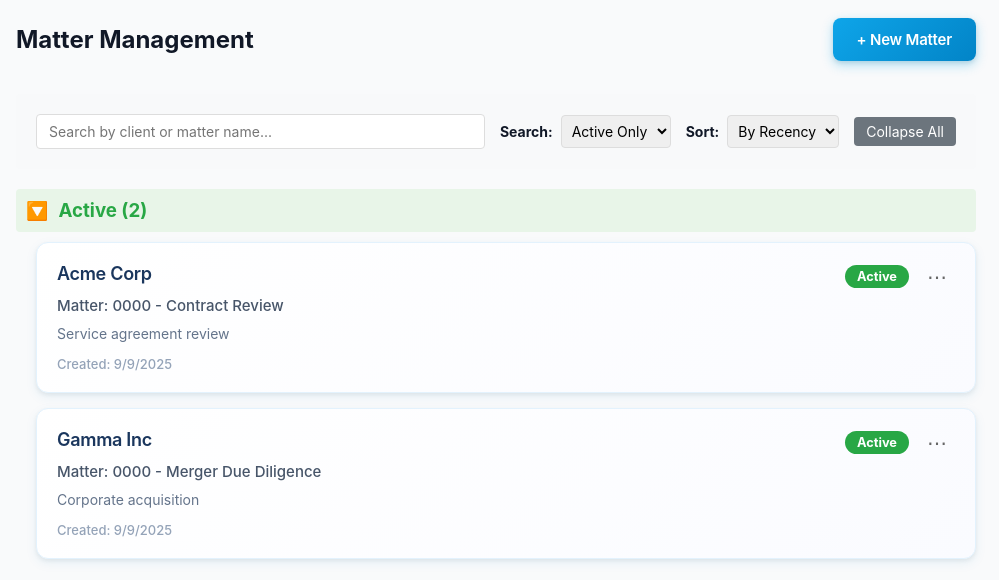
Test: MatterManagement - Search and Collapsible Sections › search works with active only scope
The image size is (999, 580).
expect the heading "Active (2)" is shown: met, box [58,199,147,222]
Note: Search for "Acme" with "Active Only" scope - should only show active Acme matters
Type "Acme" into the field with placeholder "Search by client or matter name..." at (260, 131), box [36,114,485,149]
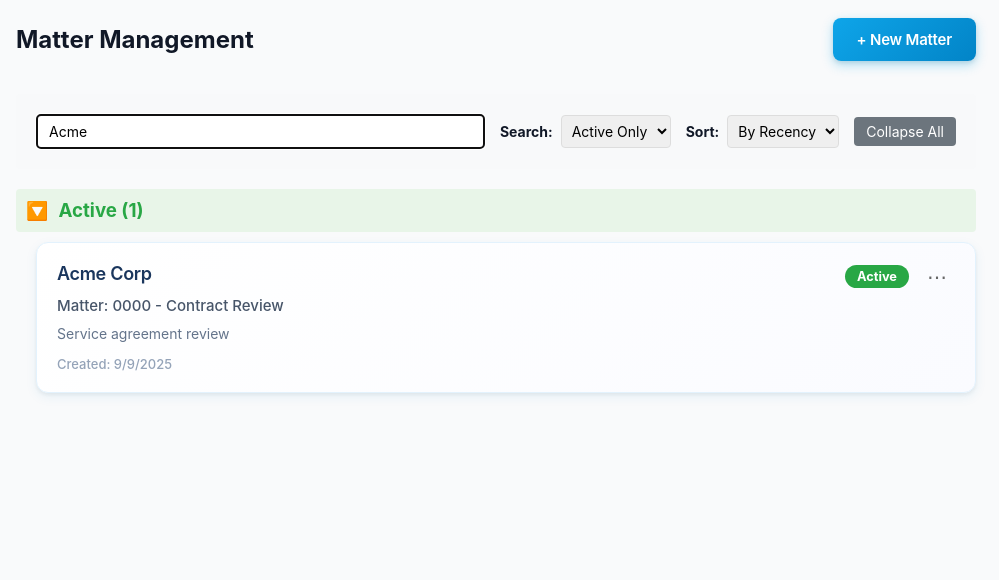
expect the text "Matter: 0000 - Contract Review" is shown: met, box [57,296,284,315]
expect the heading "Active (1)" is shown: met, box [58,199,144,222]
